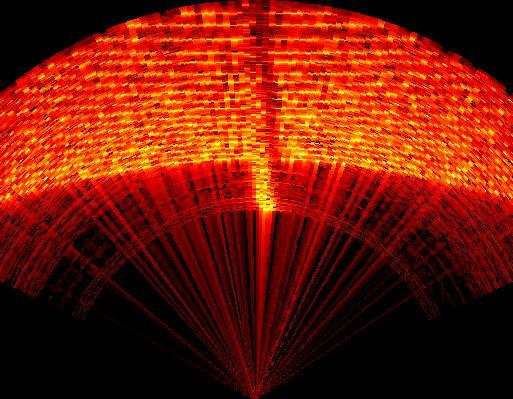pipe: (228, 3, 286, 202)
